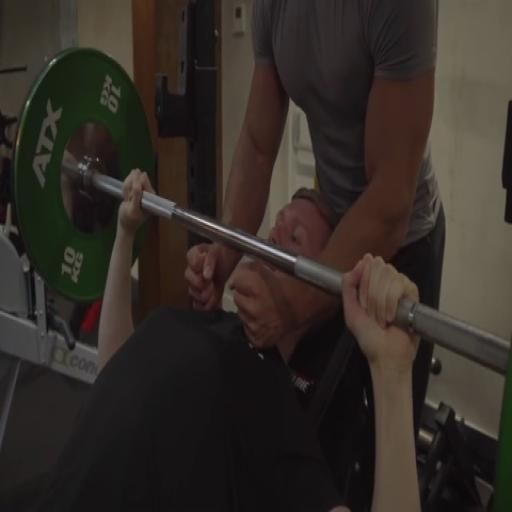exercise: (15, 168, 426, 510), (185, 0, 448, 458)
